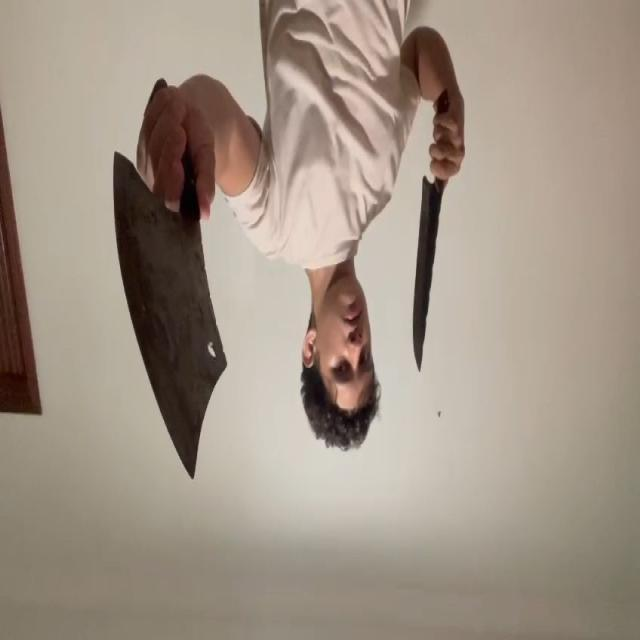knife: (112, 151, 228, 480), (411, 176, 443, 372)
